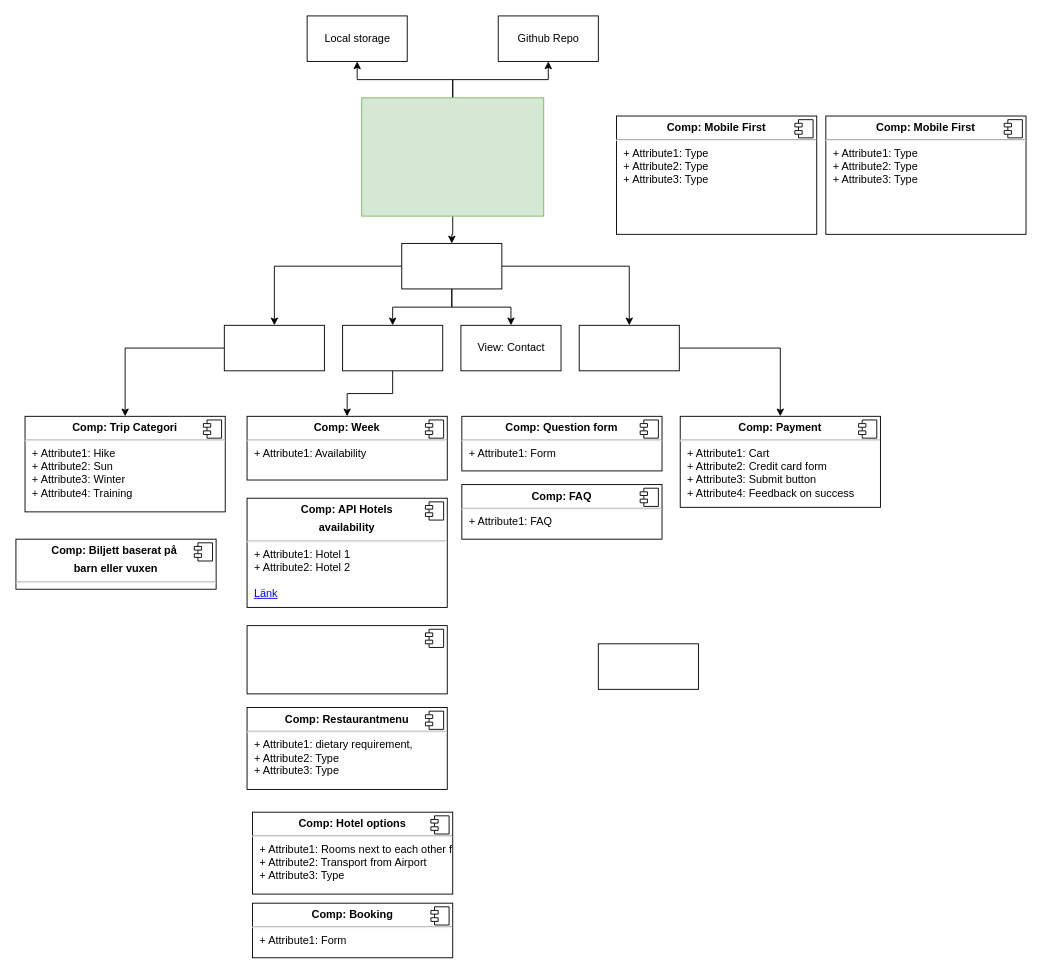
The diagram is 1042 pixels wide and 974 high, and some of its shapes have lost their labels. Each missing label, with the box of its shape:
Booking: (597, 643, 698, 689)
Comp: Hotel Categori + Attribute1: Child Friendly + Attribute2: Adults: (246, 625, 447, 694)
Startpage: (401, 243, 502, 289)
View: Cart: (578, 324, 679, 371)
View: Hotel information: (342, 324, 443, 371)
View: Trip Categori: (223, 324, 324, 371)
«App.js» Hotel booking: (361, 97, 544, 216)
